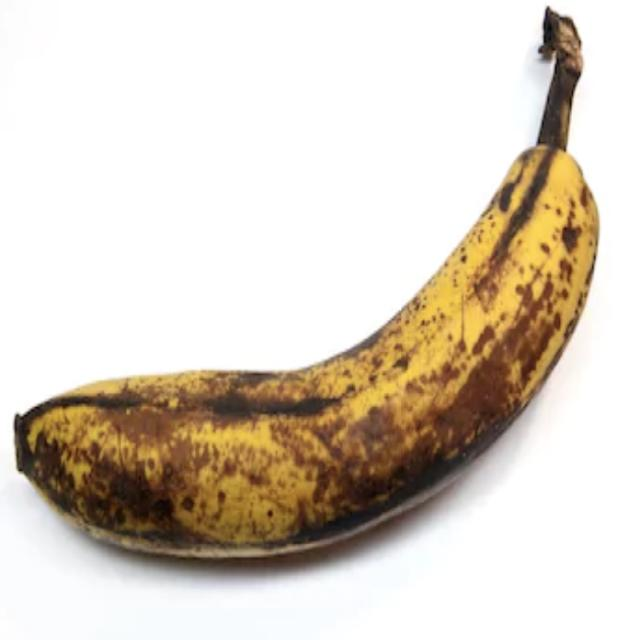rotten-banana: (12, 5, 600, 561)
